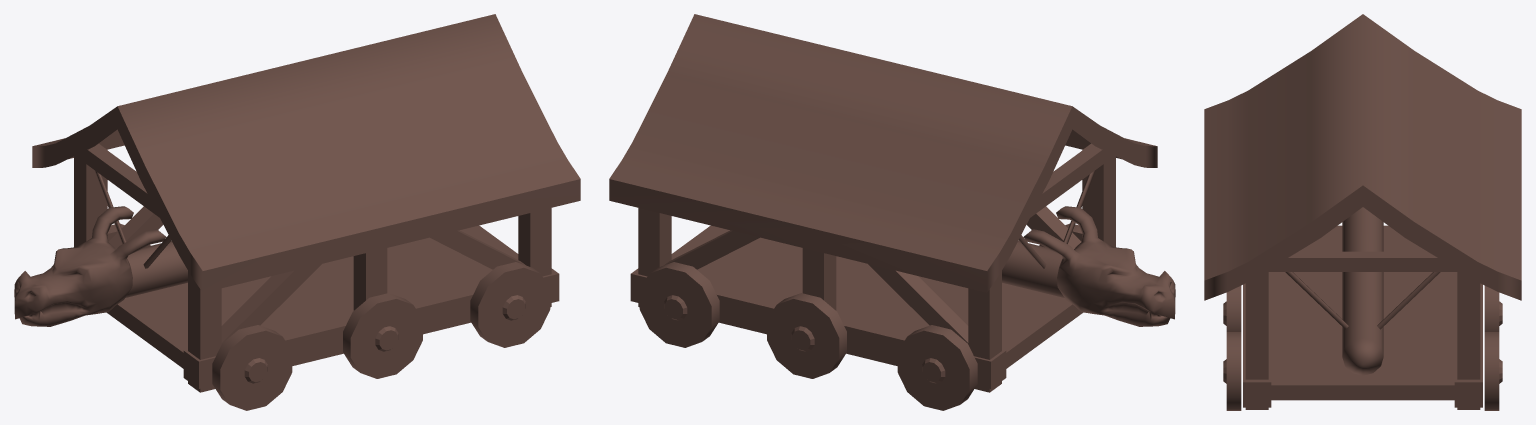
The model's file is BatteringRam.fbx.
3 renders of one model, left to right at view 1: azimuth 30°, elevation 25°; view 2: azimuth 150°, elevation 25°; view 3: azimuth 270°, elevation 25°, orthographic. The views are drawn at different scales.
Parts seen in each view (by area): view 1: Battering_Ram, Dragon_Head; view 2: Battering_Ram, Dragon_Head; view 3: Battering_Ram.
Part boxes in pixels (left/top/right/bottom): Battering_Ram: left=32, top=14, right=580, bottom=410; Dragon_Head: left=14, top=206, right=166, bottom=326; Battering_Ram: left=609, top=14, right=1157, bottom=410; Dragon_Head: left=1023, top=206, right=1175, bottom=326; Battering_Ram: left=1204, top=14, right=1521, bottom=410.
Bounding box in the file's own units: 42.33 × 20.35 × 23.77.
